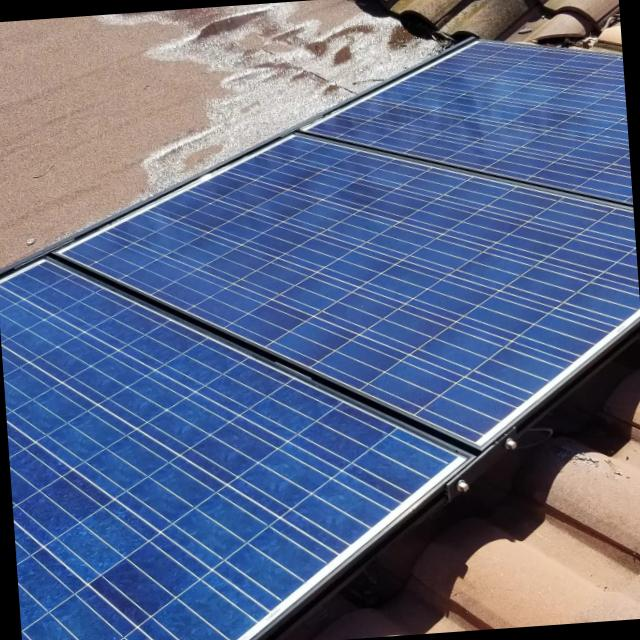no faulty: (1, 40, 640, 640)
